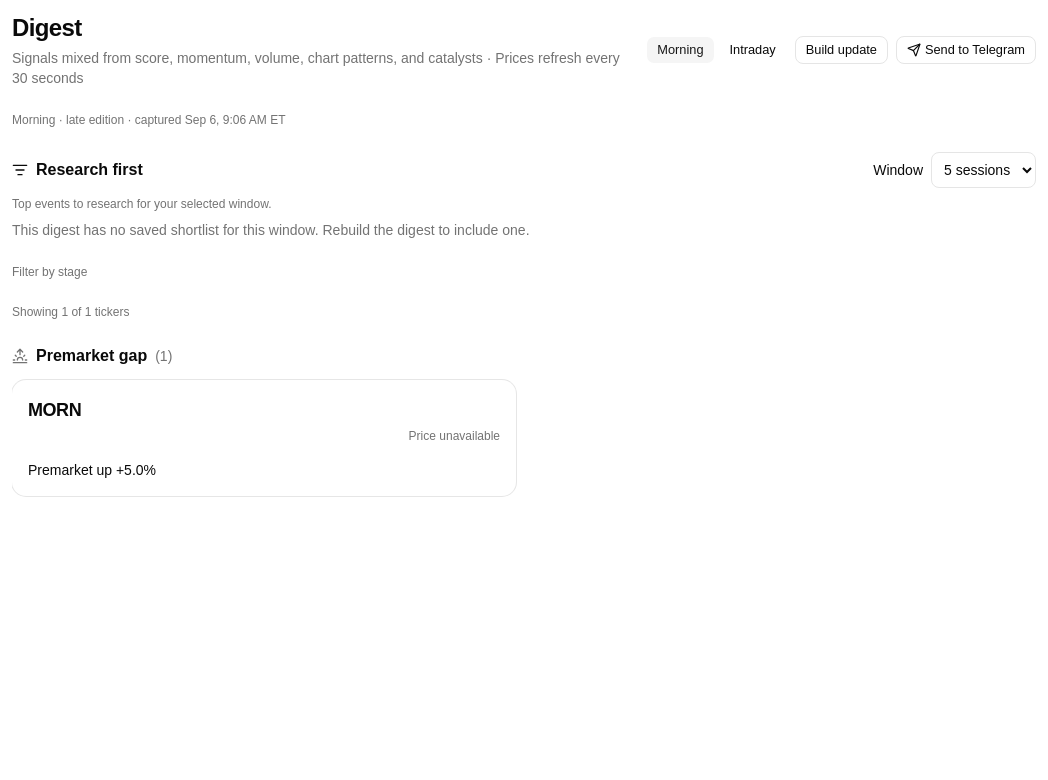
Test: building an update switches to the intraday view and keeps the morning intact
Step 1. Click the button "Build update" → (841, 50), box [795, 36, 888, 64]
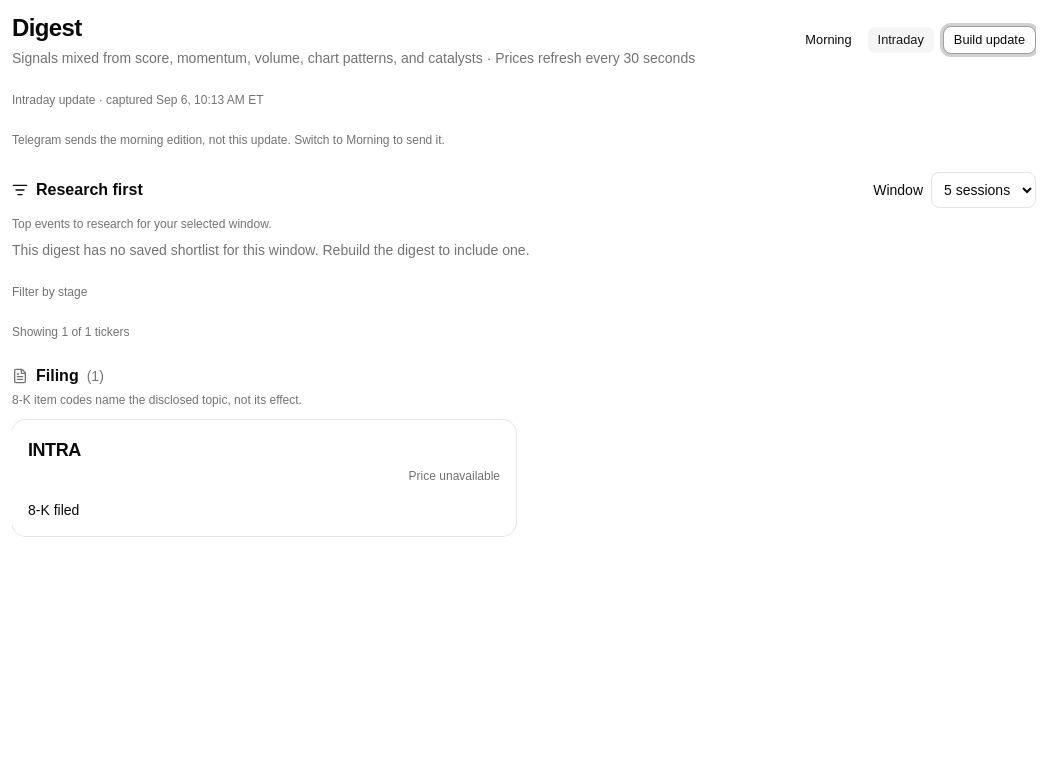
expect the link "INTRA" is shown: met, box [28, 440, 81, 460]
expect the text with test id "digest-edition-label" shows "Intraday update": met, box [12, 93, 264, 107]
expect the button "Send to Telegram" is gone: met
Step 2. Click the button "Morning" → (828, 40), box [794, 26, 863, 54]
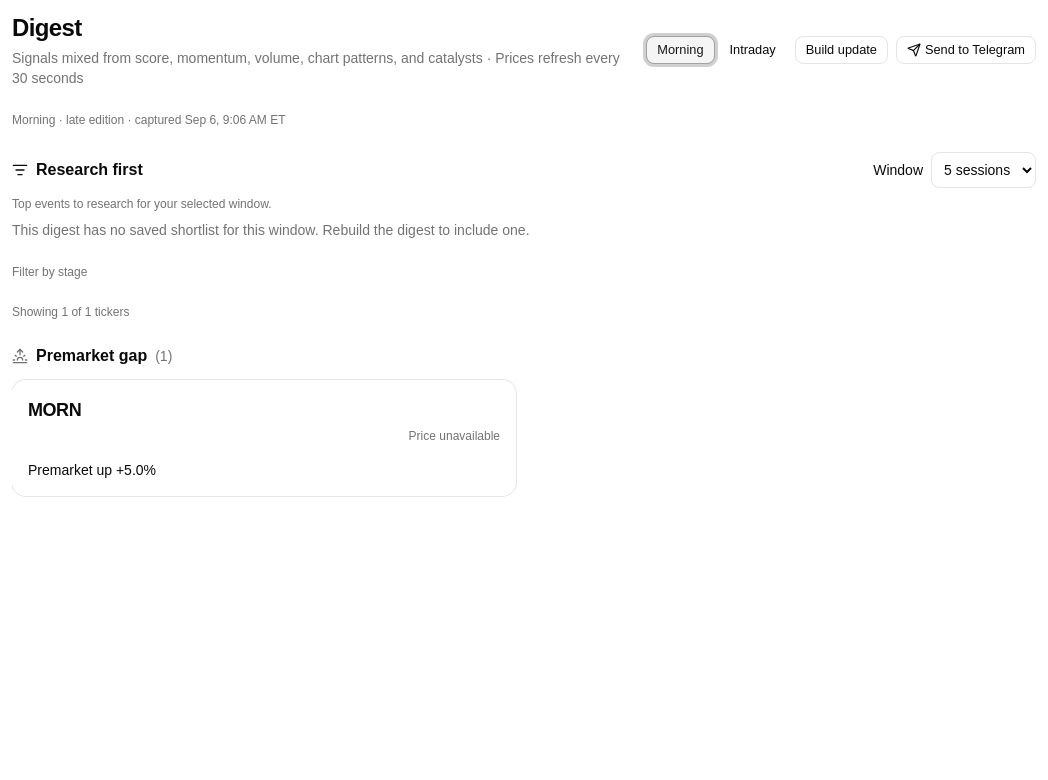
expect the link "MORN" is shown: met, box [28, 400, 81, 420]
expect the text with test id "digest-edition-label" shows "late edition": met, box [12, 113, 286, 127]
expect the button "Send to Telegram" is shown: met, box [896, 36, 1036, 64]
